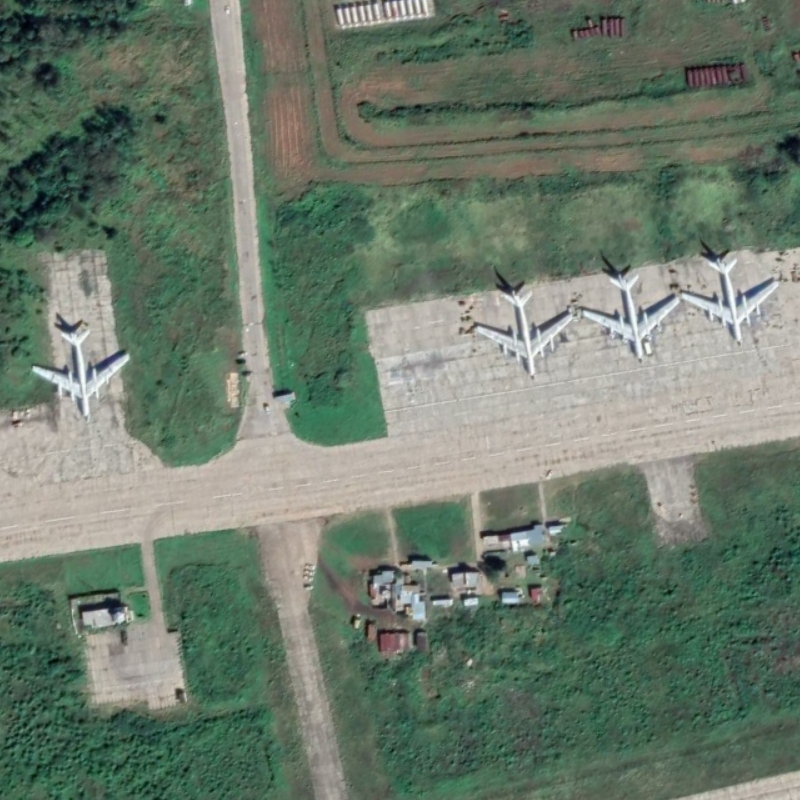A17: (25, 319, 134, 425), (468, 287, 578, 382), (678, 253, 784, 349), (579, 269, 683, 365)
